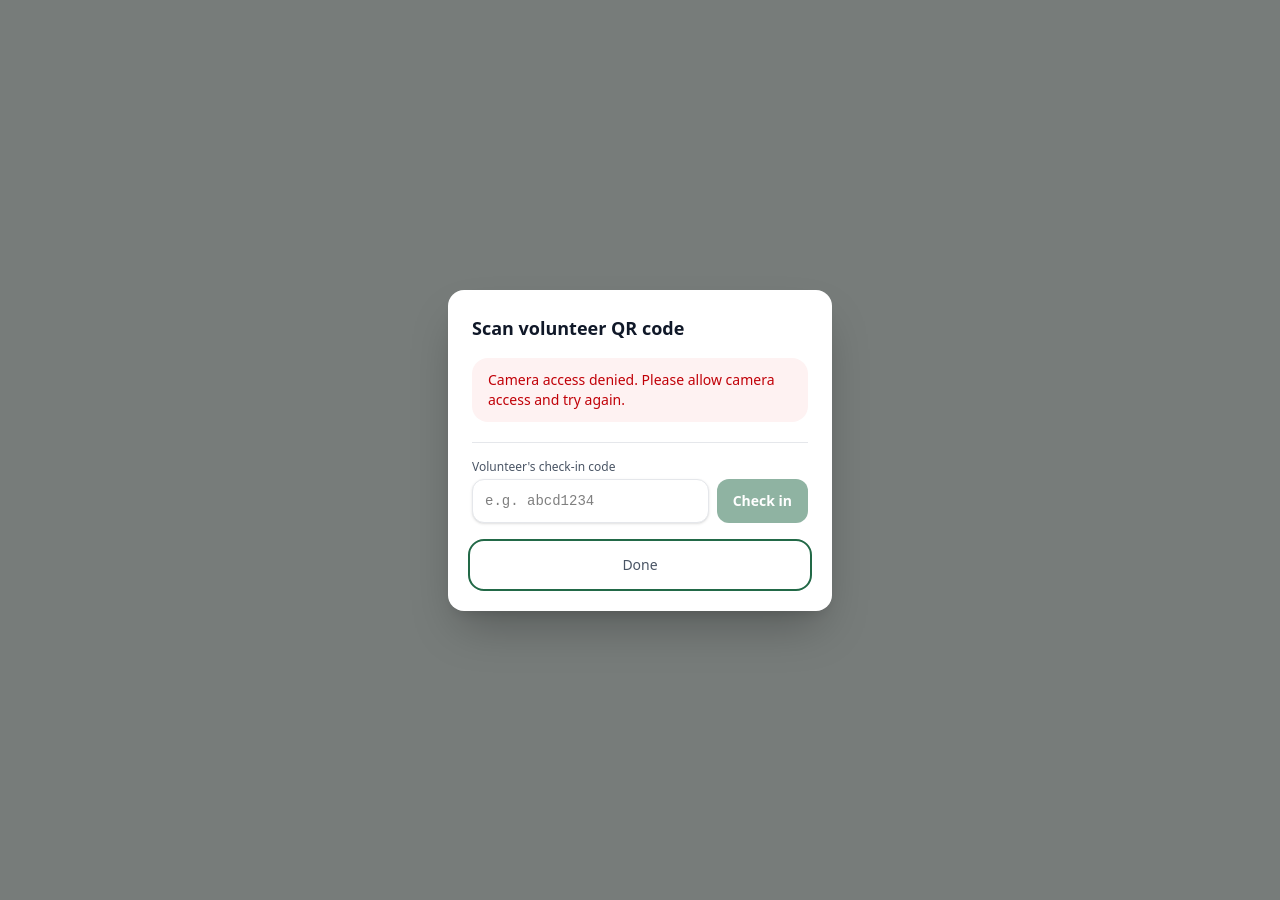
Test: QRScannerModal a11y › has no violations when the fallback code was rejected
Type "abcd1234" into the field labelled "Volunteer's check-in code" at coordinates (590, 500), box [472,478,709,522]
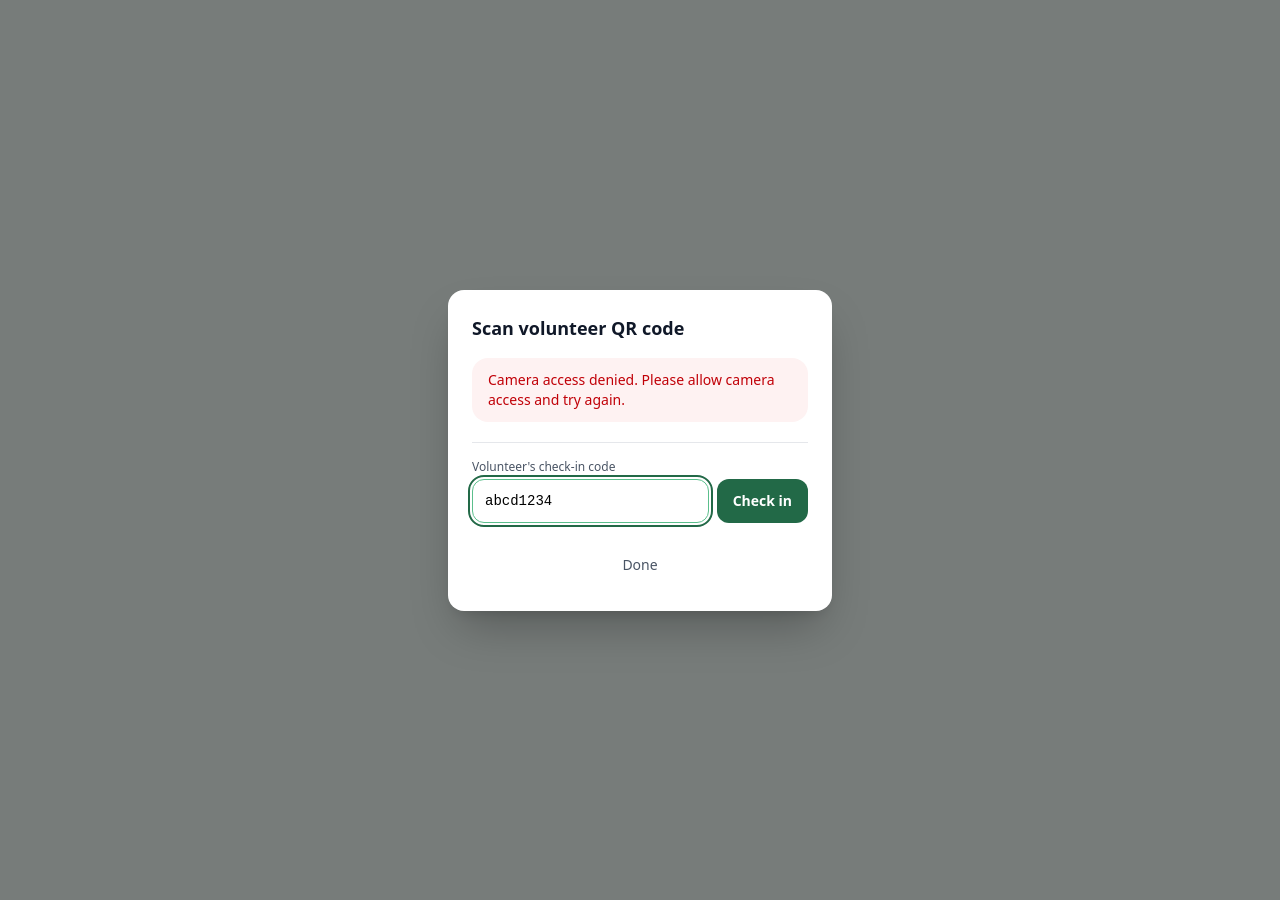
Click the button "Check in" at coordinates (762, 500), box [717,478,808,522]
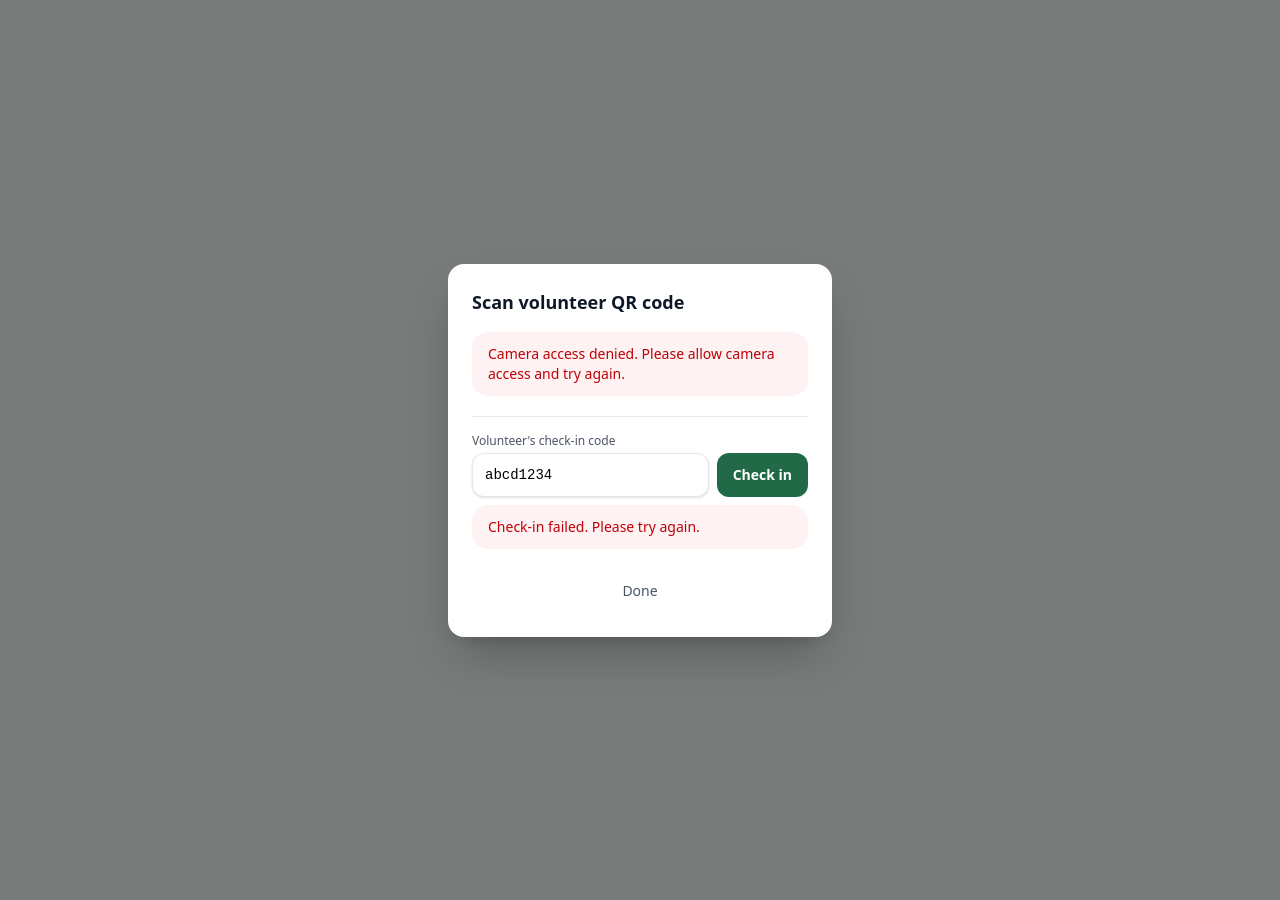
Now the text "Check-in failed. Please try again." is shown, box [472,504,808,548]
